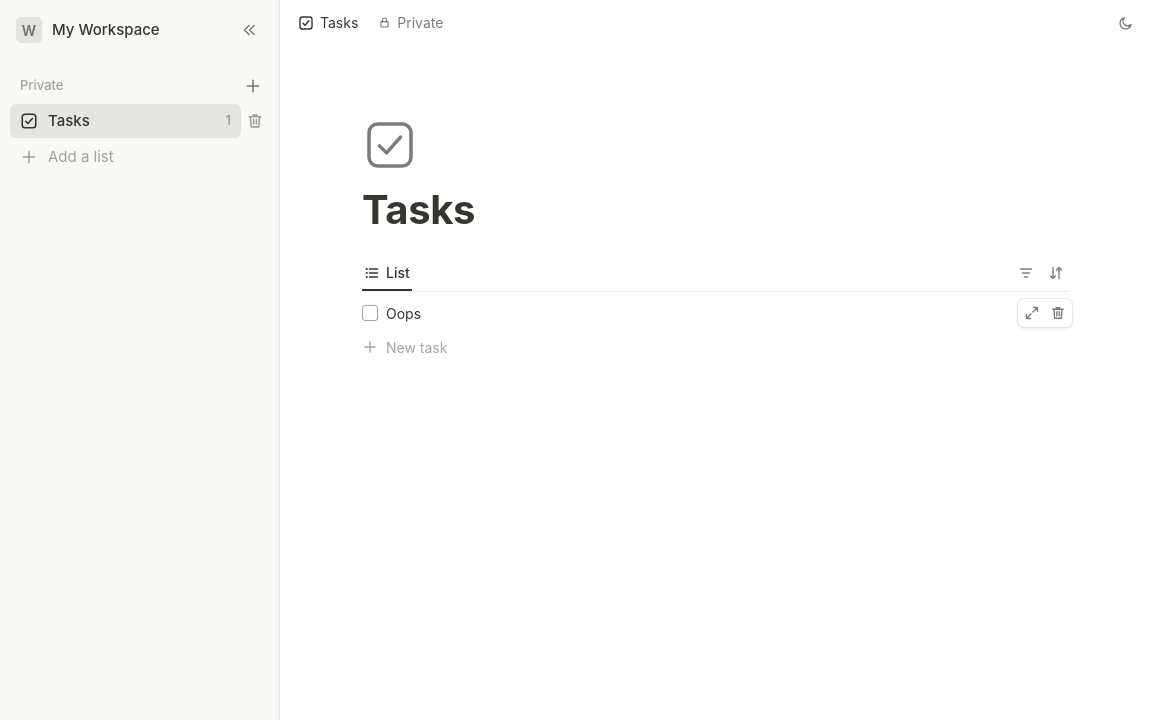
Test case: deleting tasks › hides a deleted task immediately and lets the user undo
Expected: the field labelled "New task" is shown, x1=386 y1=334 x2=1070 y2=360
Click the button named "Delete: Oops" at x=1058, y=313, box x1=1046 y1=301 x2=1070 y2=325
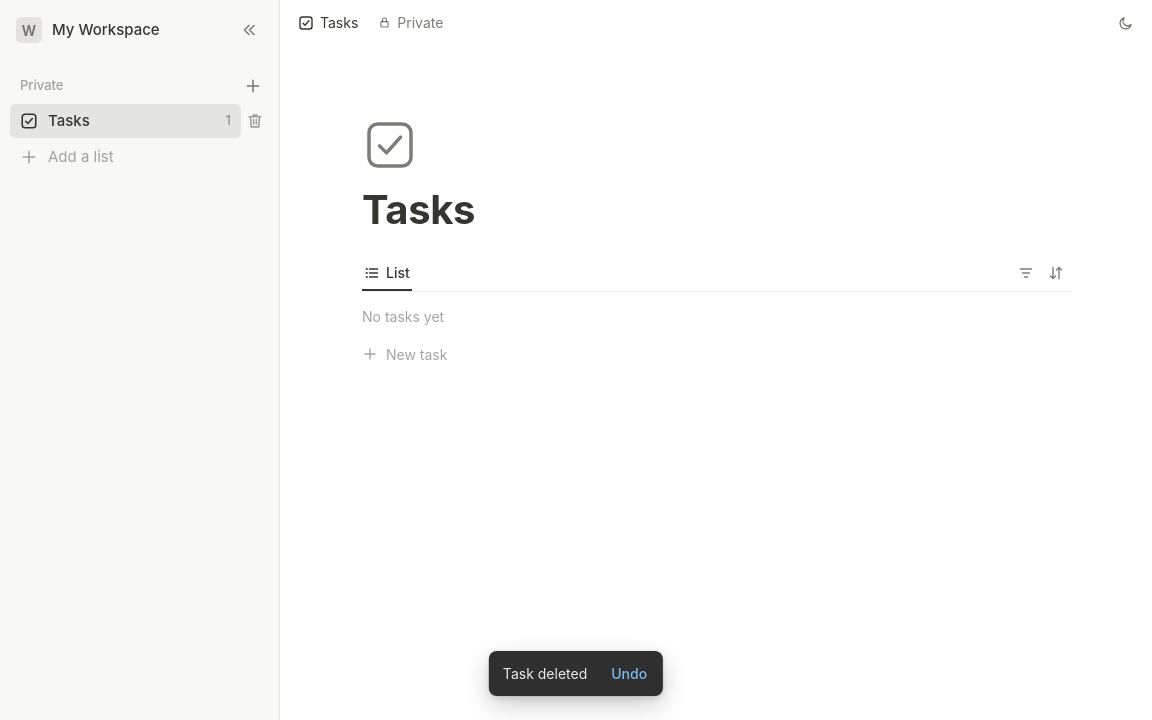
Click the button "Undo" at x=629, y=674, box x1=603 y1=659 x2=655 y2=688
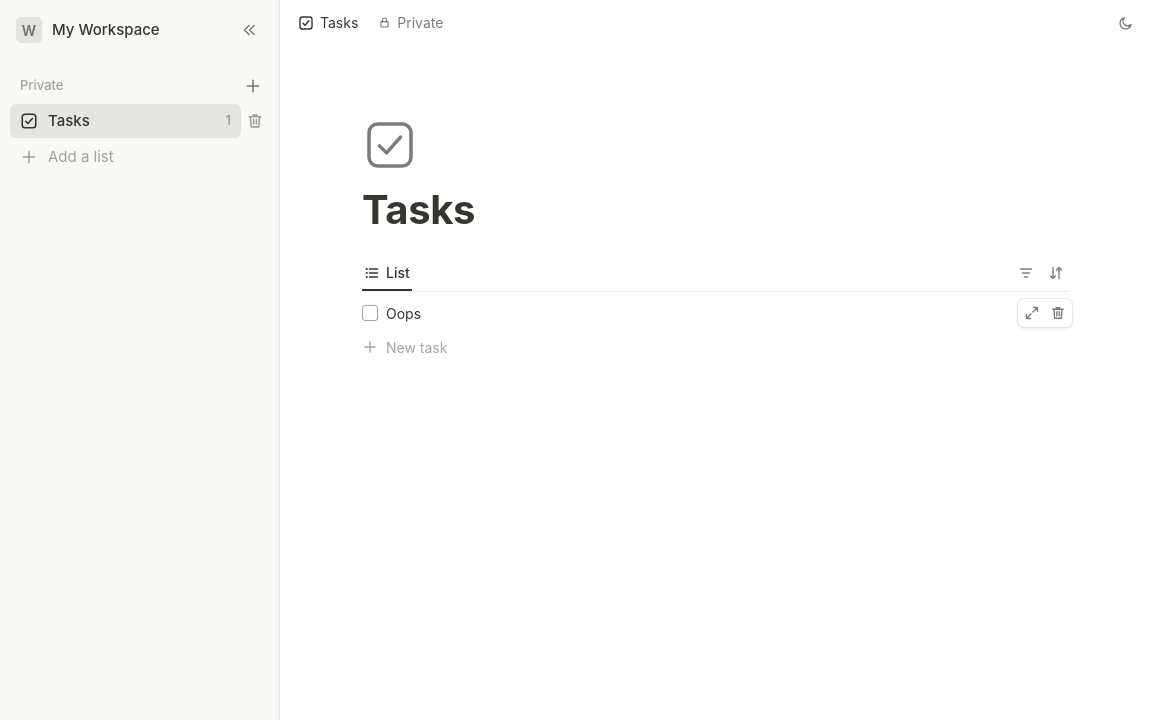
Now the button named "Edit title: Oops" is shown, box x1=386 y1=300 x2=1062 y2=326
